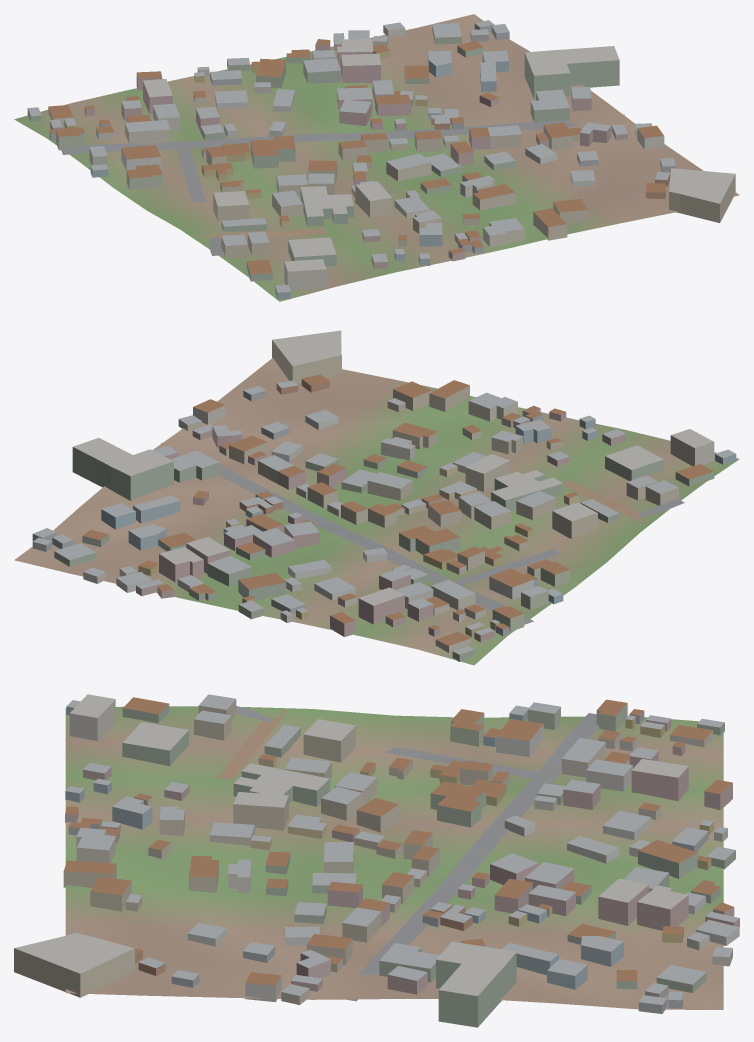
3 views of the same model, one above another, from view 1: azimuth 30°, elevation 25°; view 2: azimuth 150°, elevation 25°; view 3: azimuth 270°, elevation 25° (orthographic). The views are drawn at different scales.
Parts seen in each view (by area): view 1: Lo; view 2: Lo; view 3: Lo.
Part boxes in pixels (x1,y1,x2,y2): Lo: (14, 14, 739, 301); Lo: (14, 330, 739, 665); Lo: (14, 694, 739, 1027).
Bounding box in the file's own units: 282 × 20.77 × 282.
